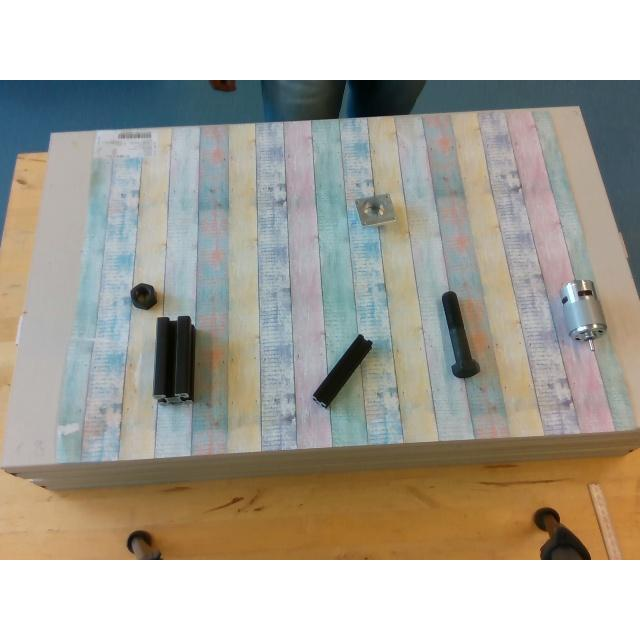F20_20_B: (313, 336, 372, 404)
M20: (130, 284, 154, 308)
M20_100: (442, 292, 478, 376)
Motor2: (562, 279, 606, 341)
S40_40_B: (153, 315, 194, 399)
